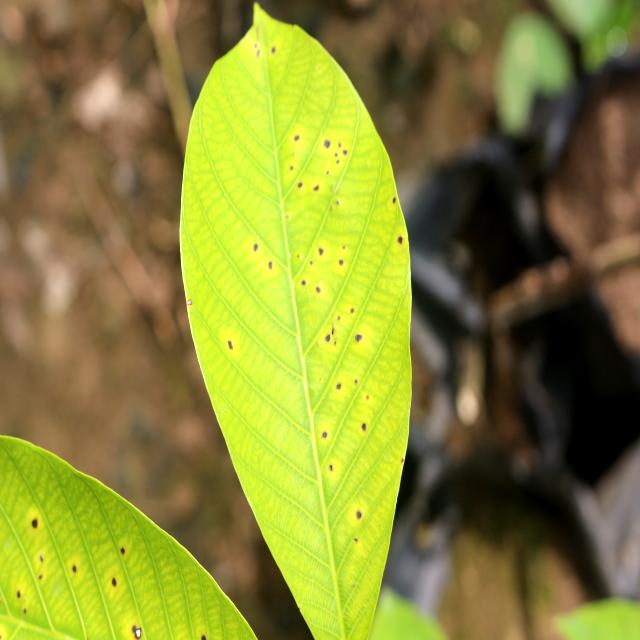Colletotrichum: (135, 627, 142, 639), (31, 518, 38, 528), (324, 139, 330, 149), (355, 334, 362, 342), (325, 334, 331, 342), (318, 248, 324, 256), (356, 511, 362, 518), (112, 578, 116, 587), (316, 286, 320, 294), (254, 244, 258, 252), (322, 432, 327, 438), (336, 384, 342, 389), (121, 548, 125, 555), (362, 423, 366, 430)
